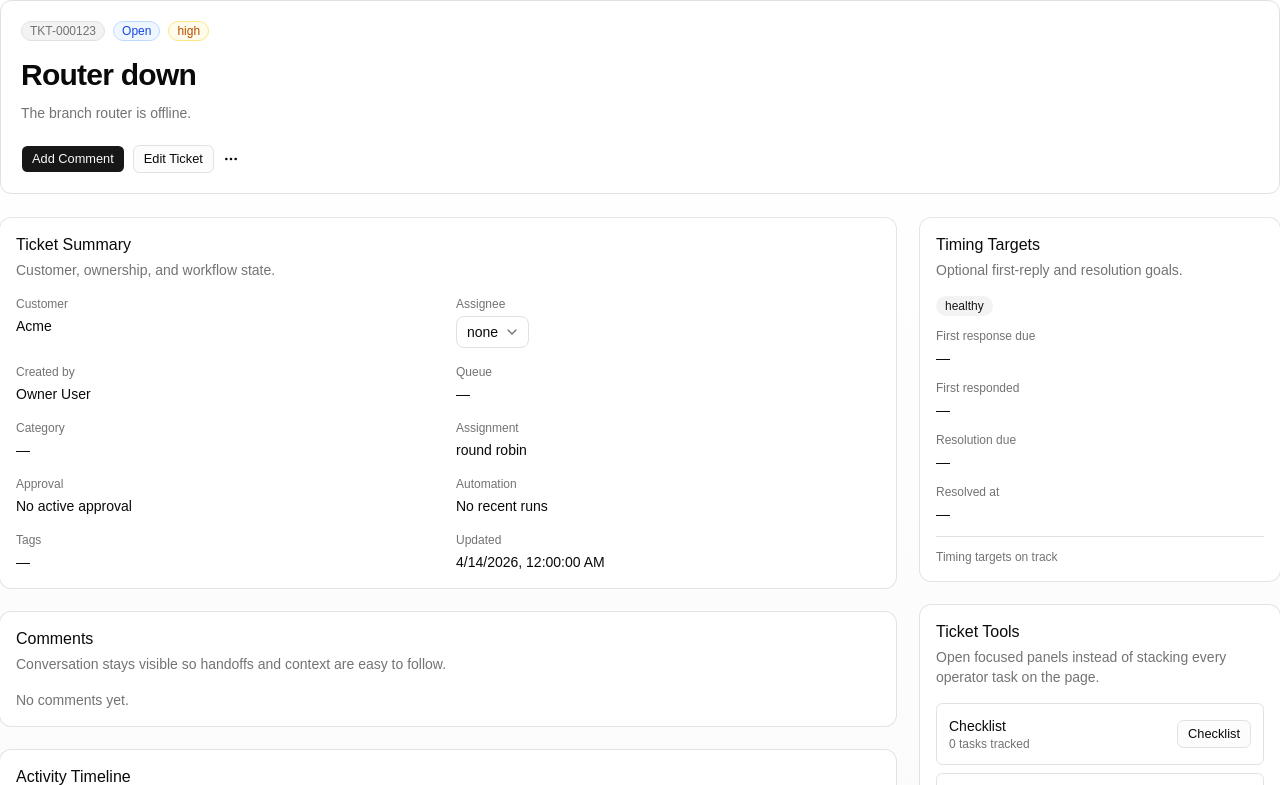
Test: TicketDetailsPage mutations › renders quick transition message when backend returns one
The width and height of the screenshot is (1280, 785).
expect the text "Ticket Summary" is shown: met, box [16,236,131,253]
Click the button named "More actions for TKT-000123": {"x": 231, "y": 159} [222,145,240,173]
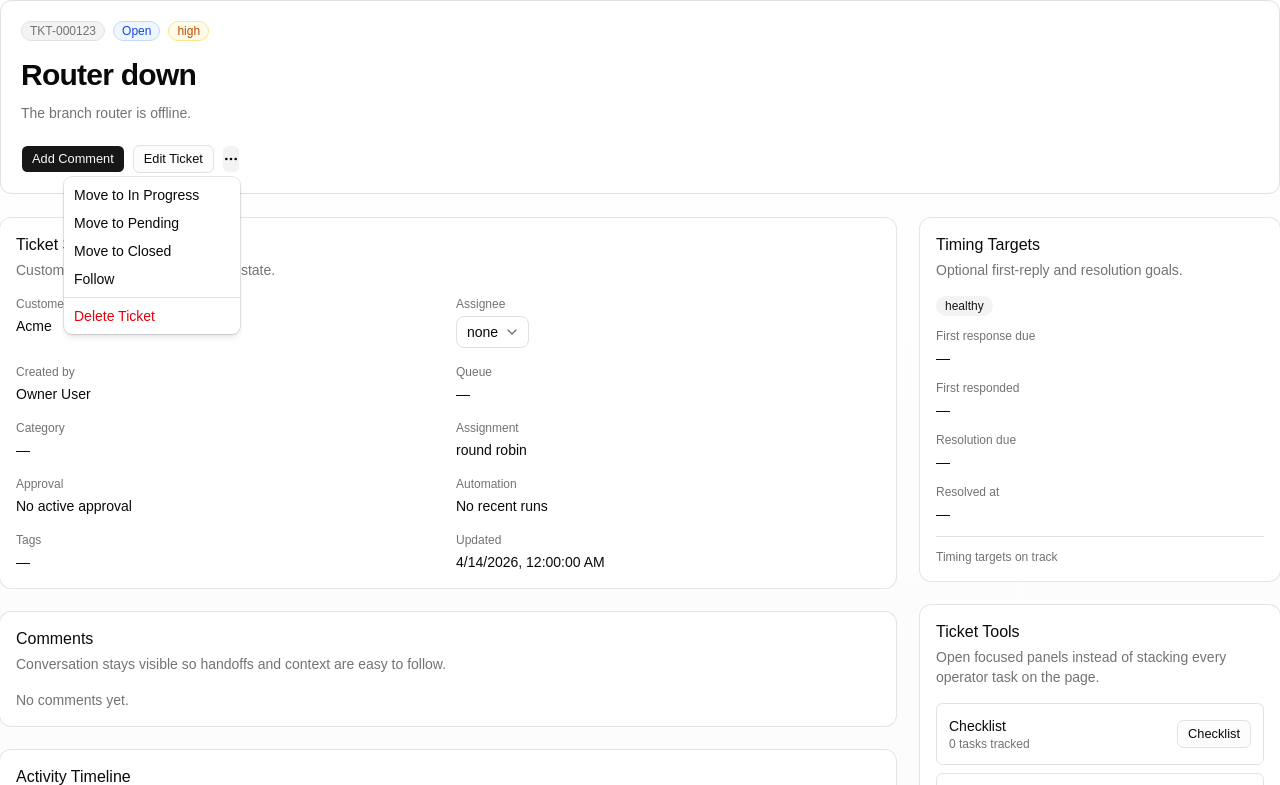
expect the menu is shown: met, box [64,177,240,334]
Click the menu item "Move to In Progress": {"x": 137, "y": 195} [74,187,199,203]
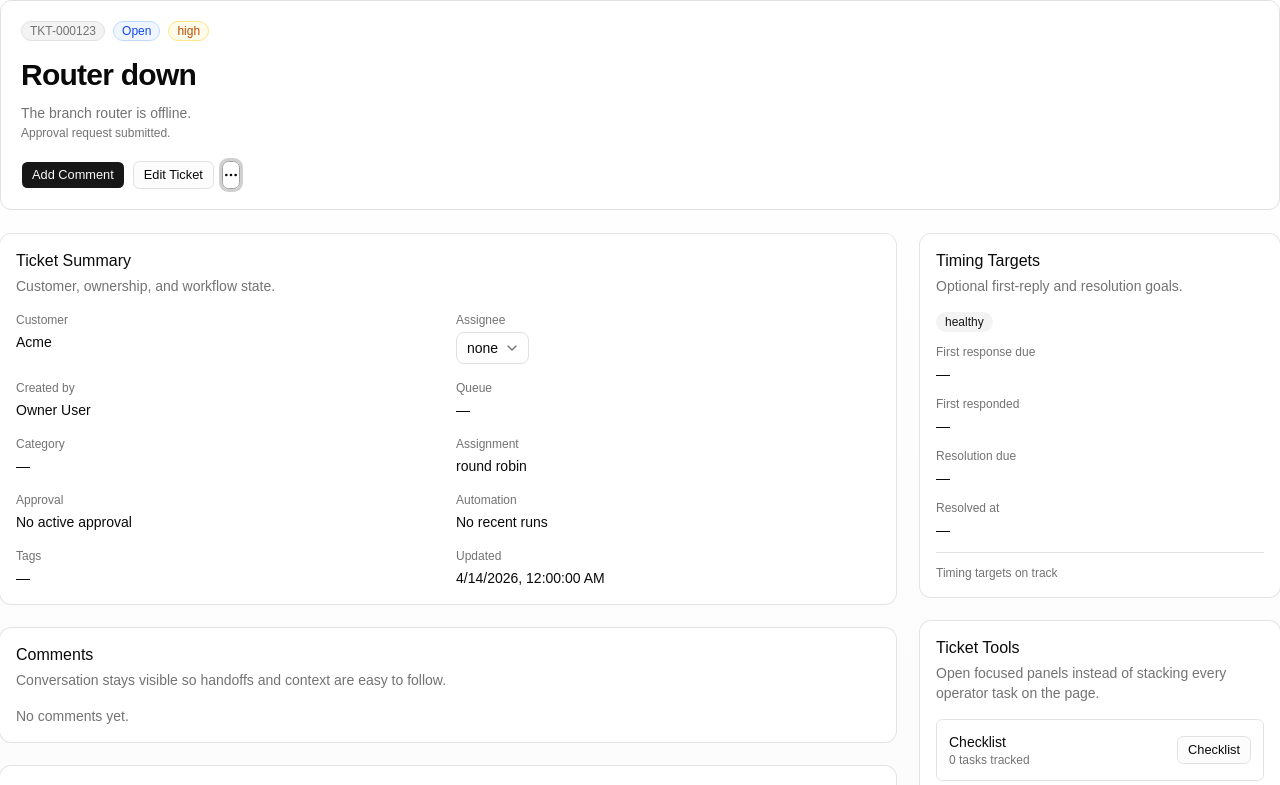
expect the text "Approval request submitted." is shown: met, box [21,126,170,140]
